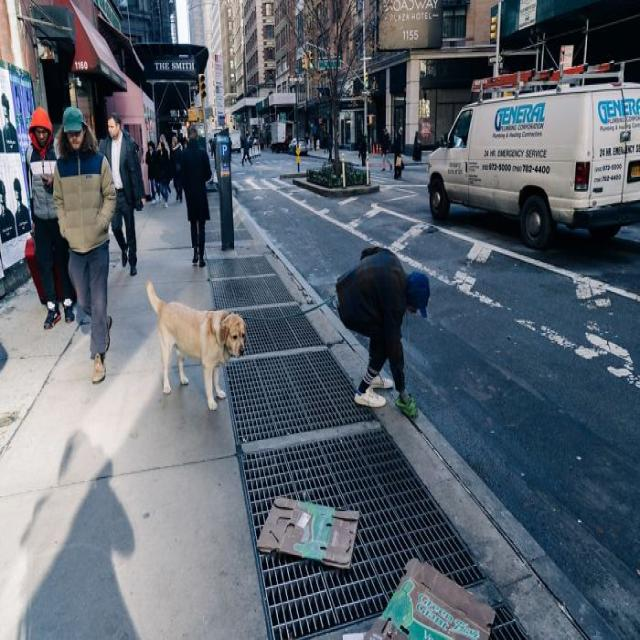Walking: (49, 100, 122, 384), (21, 89, 85, 334), (104, 100, 148, 289), (179, 113, 221, 276)
